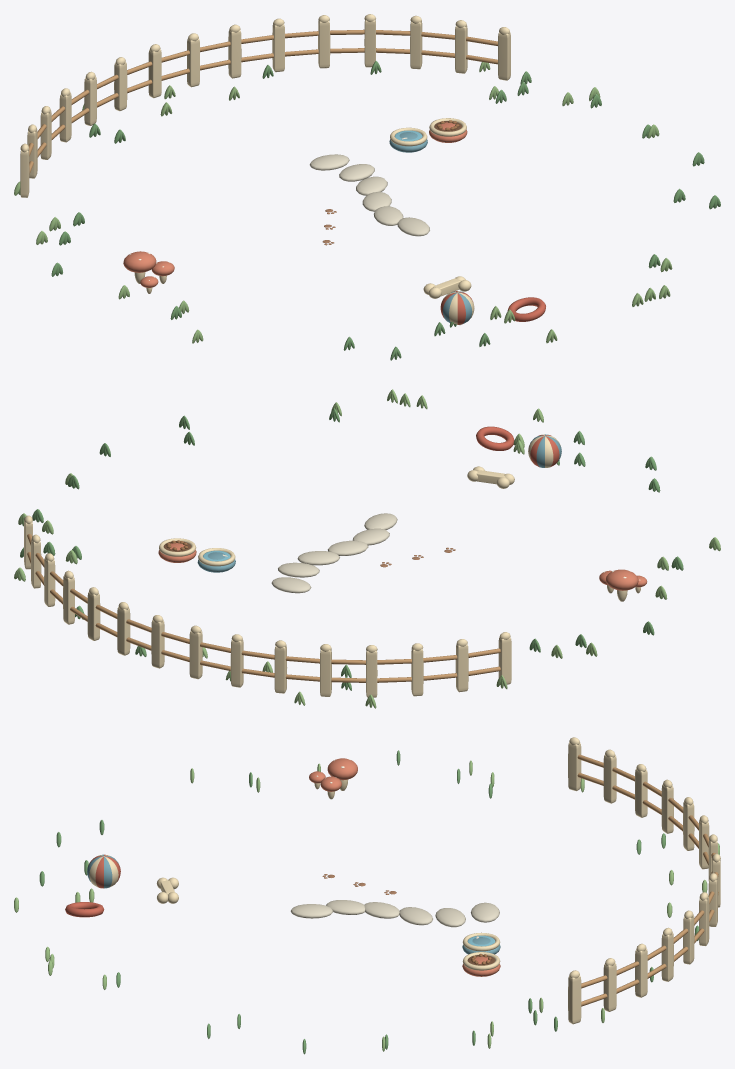
File: jardim-cartoon.obj
3 renders of one model, top to bottom at view 1: azimuth 30°, elevation 25°; view 2: azimuth 150°, elevation 25°; view 3: azimuth 270°, elevation 25°, orthographic.
Parts seen in each view (by area): view 1: volume, madeira, curva, aro, bola; view 2: volume, madeira, curva, aro, bola; view 3: volume, madeira, curva, aro, bola.
Boxes of the visible parts, box(x1,y1,x2,y2) form: volume: box(14, 14, 720, 360); madeira: box(20, 20, 510, 296); curva: box(28, 29, 497, 174); aro: box(390, 118, 545, 321); bola: box(440, 291, 474, 324); volume: box(14, 389, 720, 708); madeira: box(24, 470, 511, 697); curva: box(27, 534, 500, 682); aro: box(159, 426, 514, 566); bola: box(528, 434, 561, 467); volume: box(14, 737, 720, 1054); madeira: box(160, 742, 720, 1024); curva: box(577, 754, 718, 1006); aro: box(65, 902, 500, 970); bola: box(87, 854, 120, 888).
Size of the model in its own units: 9.04 by 0.7736 by 9.18.
Materials: 1 (1 with a texture image).
